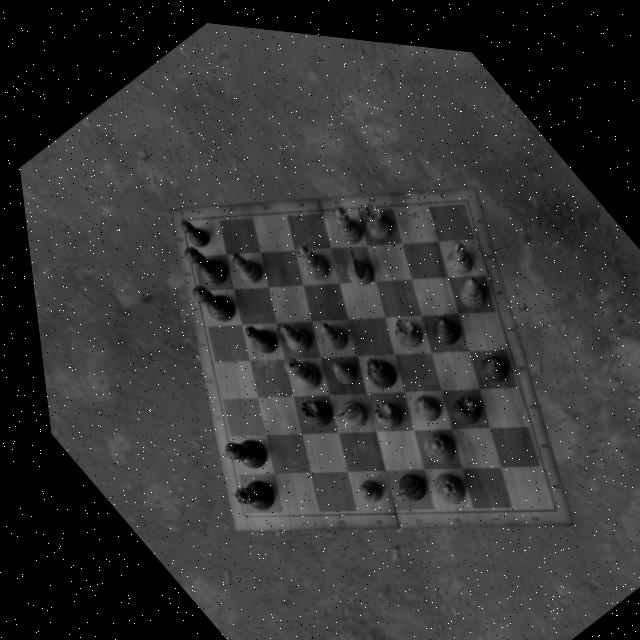chessboard: (178, 192, 544, 513)
